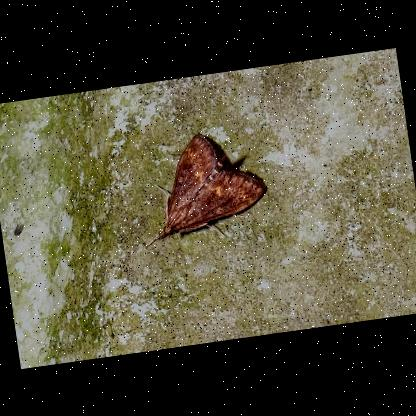Asian Corn Borer Moth: (127, 122, 274, 250)
